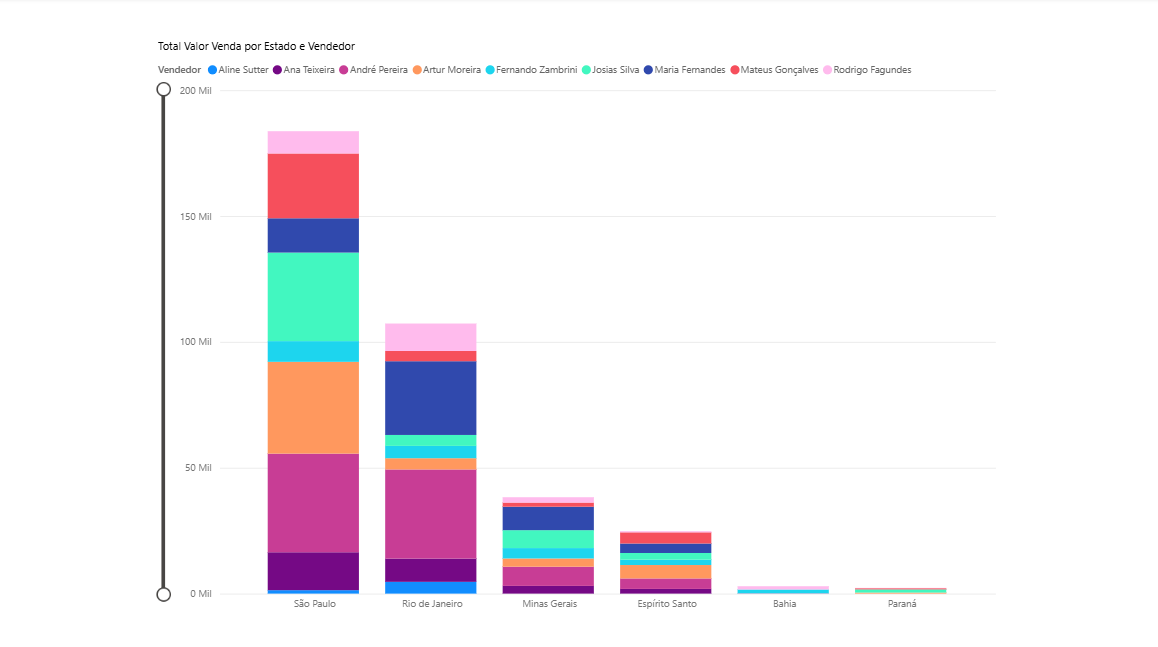

Layout of this report page (visuals, bound fields, positions):
{"tool":"powerbi","page":{"name":"Performace dos Vendedores por Região","canvas":[1280,720],"ordinal":4},"visuals":[{"type":"columnChart","fields":{"Category":["Vendas.Estado"],"Series":["Vendas.Vendedor"],"Y":["Sum(Vendas.ValorVenda)"]},"box":[172.3,44.8,930.1,637.3],"z":0}]}

Visuals, with their boxes in screenshot pixels (x1, y1, x2, y2), scaled from the page's 1280x720 canvas onto the 1158x647 screenshot:
columnChart - Vendas.Estado x Vendas.Vendedor: locate(156, 40, 997, 613)
